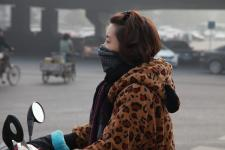face_mask: (99, 24, 119, 69)
